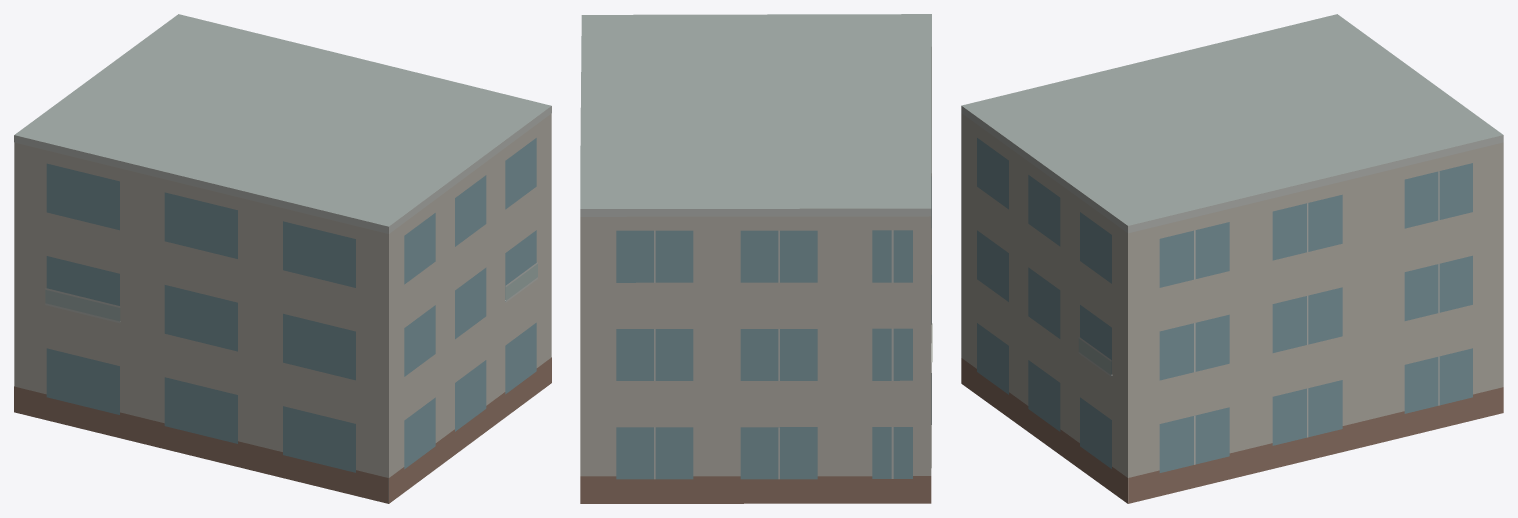
File: survey-upis-32705836.glb
3 renders of one model, left to right at view 1: azimuth 30°, elevation 25°; view 2: azimuth 150°, elevation 25°; view 3: azimuth 270°, elevation 25°, orthographic. The views are drawn at different scales.
Visible parts, largest first — view 1: survey-upis-32705836.tmp; view 2: survey-upis-32705836.tmp; view 3: survey-upis-32705836.tmp.
Part boxes in pixels (x1=…): survey-upis-32705836.tmp: x1=14, y1=14, x2=551, y2=503; survey-upis-32705836.tmp: x1=580, y1=14, x2=932, y2=503; survey-upis-32705836.tmp: x1=961, y1=14, x2=1503, y2=503.
Bounding box in the file's own units: 14.97 × 9.15 × 16.19.
